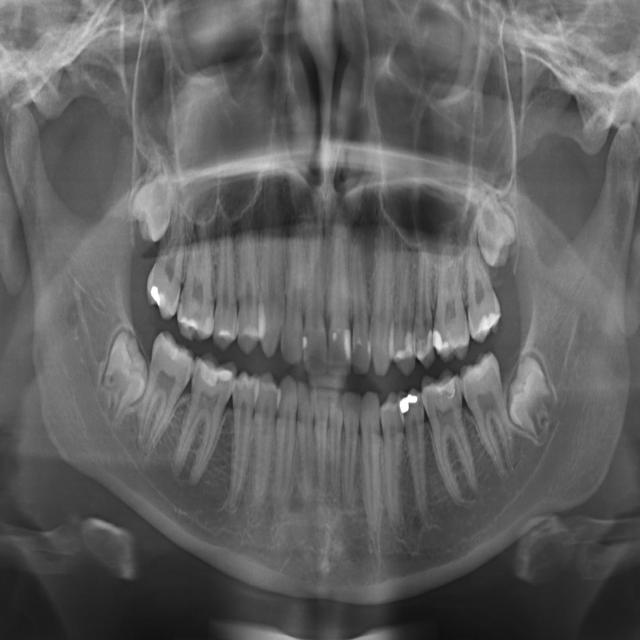AmalgamRestoration: (400, 393, 419, 418), (150, 280, 162, 311)
CompositeResinRestoration: (431, 375, 459, 406), (198, 361, 222, 396), (478, 308, 502, 339), (179, 308, 202, 338), (414, 332, 436, 361), (400, 330, 416, 368), (434, 328, 455, 351), (344, 328, 353, 366), (300, 334, 308, 354)
Crown: (401, 402, 410, 423)
